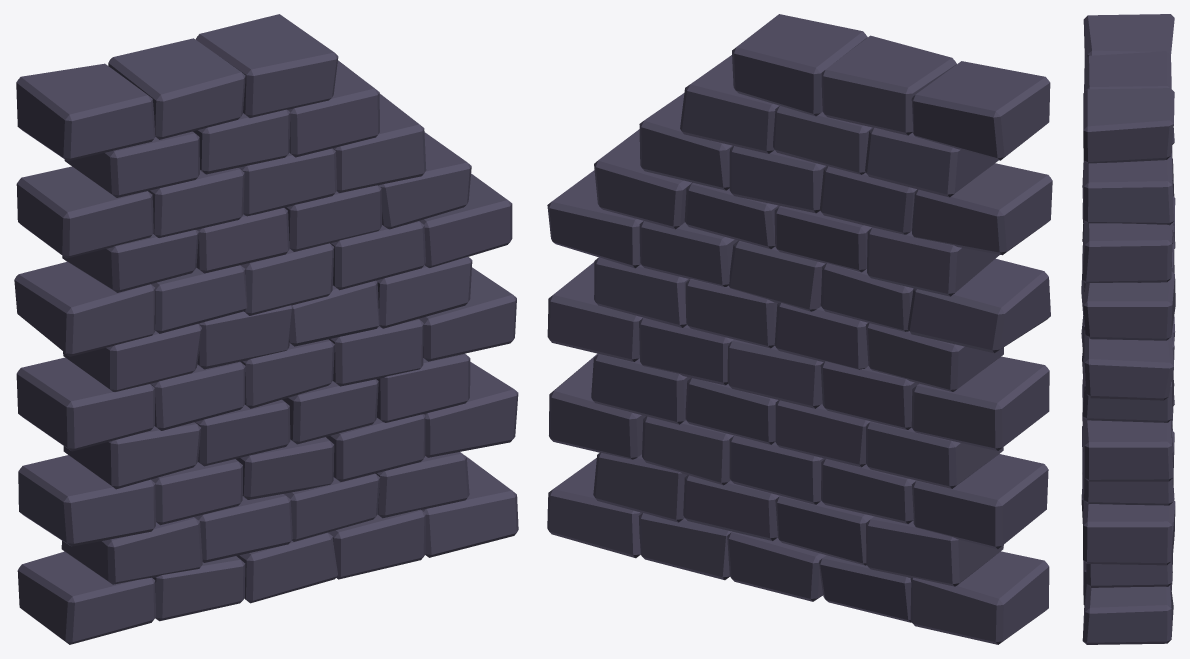
File: BrickWallEndLc.glb
3 views of the same model, side by side, from view 1: azimuth 30°, elevation 25°; view 2: azimuth 150°, elevation 25°; view 3: azimuth 270°, elevation 25° (orthographic). The views are drawn at different scales.
Visible parts, largest first — view 1: Cube; view 2: Cube; view 3: Cube.
Boxes of the visible parts, left/top/right/bottom form: Cube: left=14, top=14, right=518, bottom=644; Cube: left=547, top=14, right=1052, bottom=644; Cube: left=1081, top=14, right=1175, bottom=644.
Bounding box in the file's own units: 2.02 × 2.27 × 0.4307.
